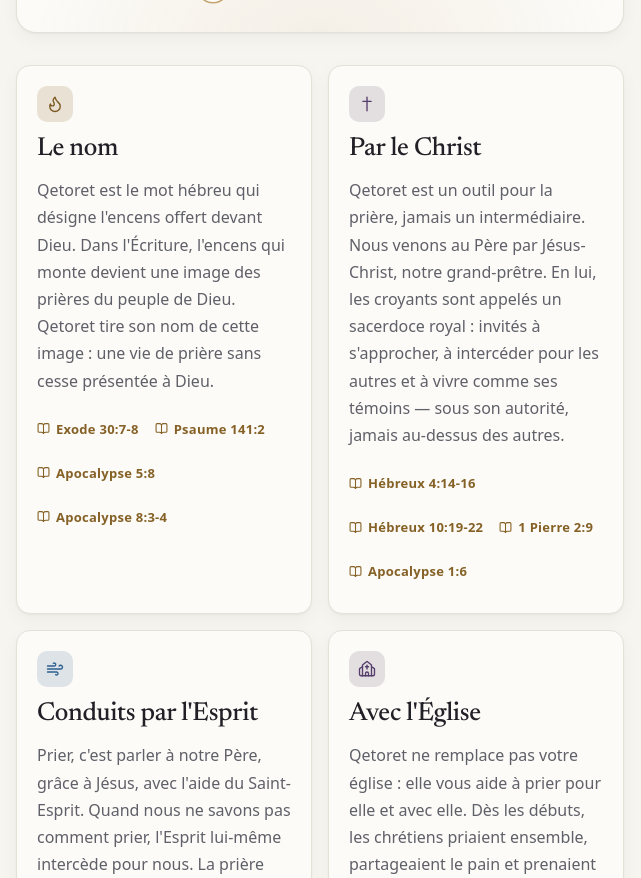
Test case: AboutTab — Scripture references › are buttons that unfold the passage in place, not links away
The width and height of the screenshot is (641, 878).
(page scrolled)
Click the button "Psaume 141:2": (210, 429) [155,407,265,451]
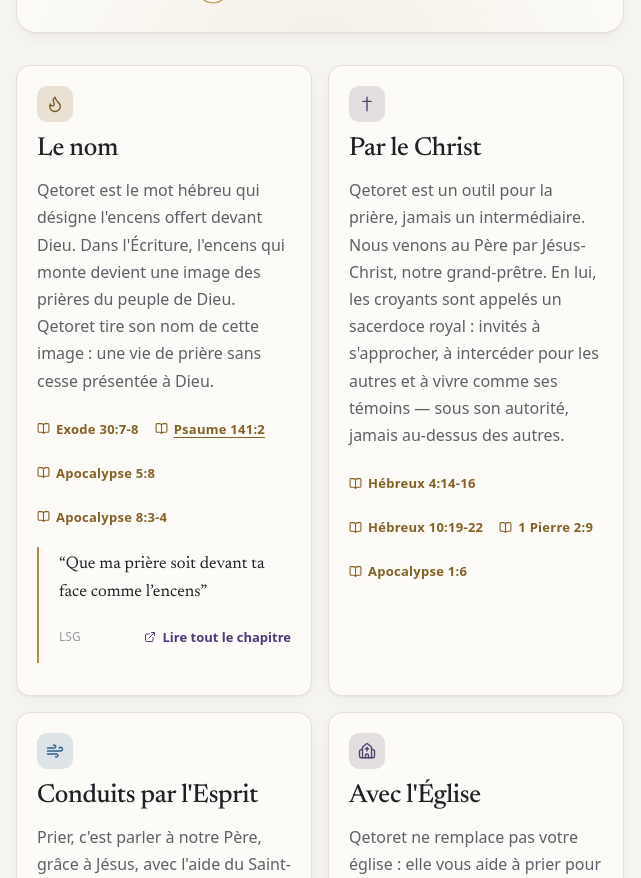
Check: the button "Psaume 141:2" is expanded
Check: the text "“Que ma prière soit devant ta face comme l’encens”" is shown, box [59,551,291,607]
Click the button "Psaume 141:2": (210, 429) [155,407,265,451]
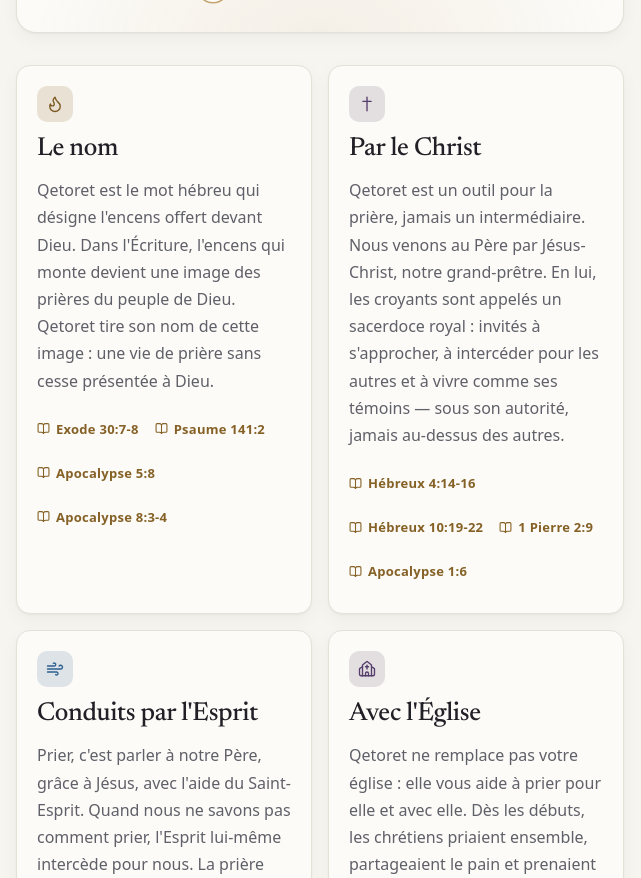
Check: the button "Psaume 141:2" is collapsed, box [155,407,265,451]
Check: the text "comme l’encens" is gone
